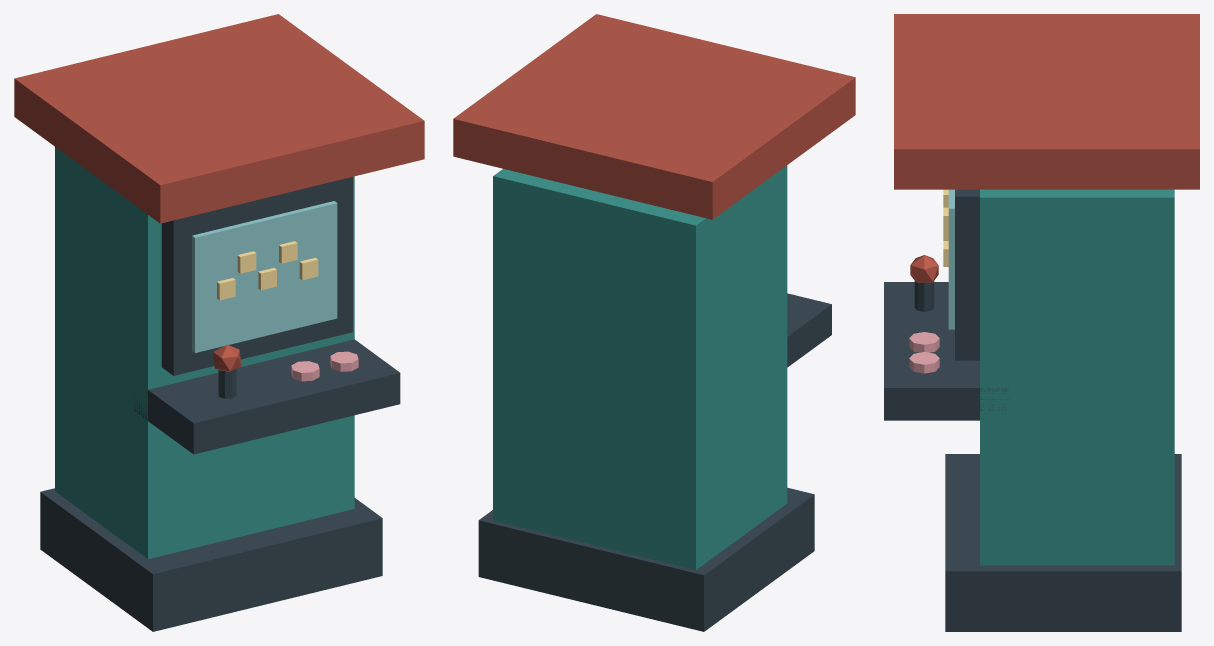
The model's file is arcade_cabinet_outdoor.glb.
The picture shows the model from 3 angles, left to right: view 1: azimuth 30°, elevation 25°; view 2: azimuth 150°, elevation 25°; view 3: azimuth 270°, elevation 25°; orthographic projection. The views are drawn at different scales.
Visible parts, largest first — view 1: cabinet, awning, base, controls, screen, screen_frame, knob; view 2: cabinet, awning, base, controls; view 3: cabinet, awning, base, controls, screen_frame, screen, knob, joystick, button.001, button.
Boxes of the visible parts, x1,y1,x2,y2 form: cabinet: (55, 147, 354, 559); awning: (14, 14, 424, 223); base: (40, 488, 382, 631); controls: (134, 339, 400, 454); screen: (192, 201, 337, 352); screen_frame: (161, 177, 352, 375); knob: (213, 344, 241, 371); cabinet: (493, 165, 787, 569); awning: (453, 14, 855, 219); base: (478, 487, 814, 631); controls: (787, 293, 831, 367); cabinet: (980, 189, 1174, 565); awning: (894, 14, 1199, 189); base: (945, 454, 1181, 631); controls: (884, 282, 1008, 420); screen_frame: (955, 189, 979, 360); screen: (948, 189, 954, 329); knob: (910, 255, 938, 282); joystick: (914, 281, 934, 311); button.001: (909, 352, 939, 373); button: (909, 332, 939, 352).
Size of the model in its own units: 1.15 by 1.95 by 1.13.
